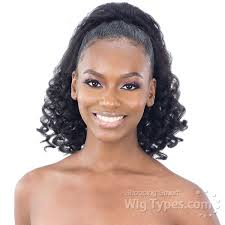person: (70, 24, 156, 148)
